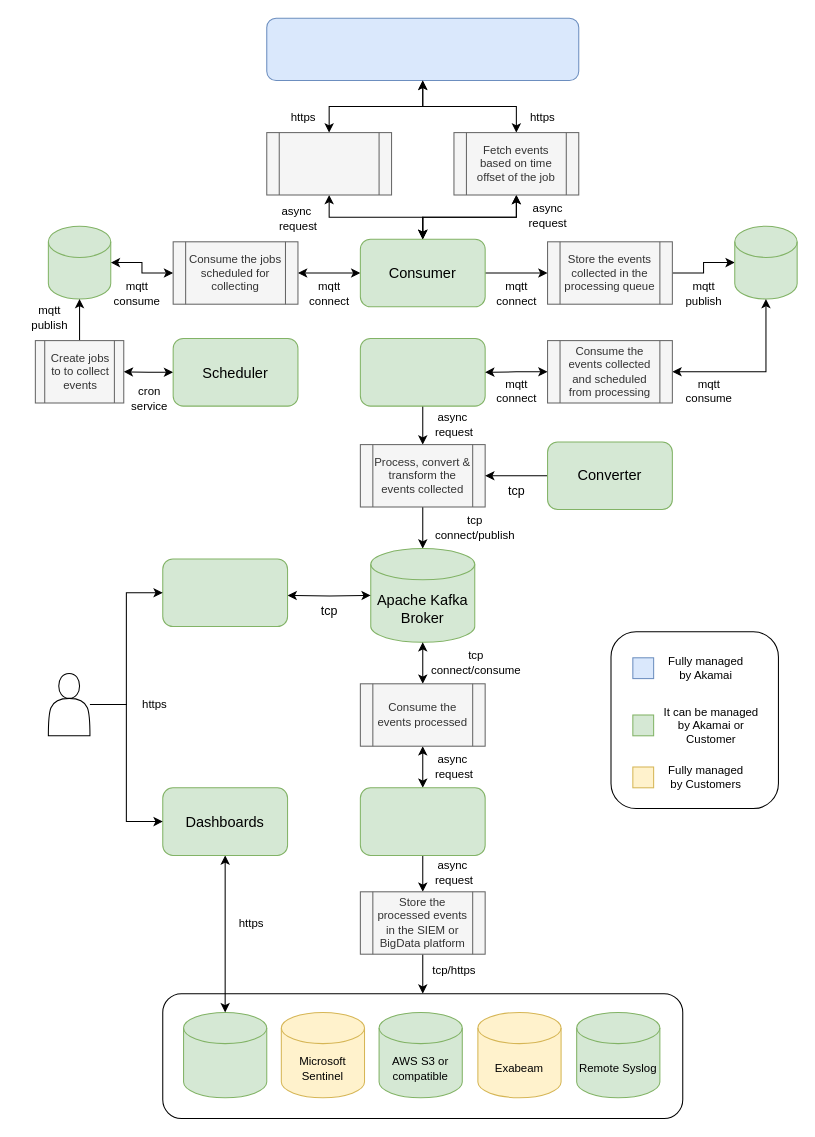
Image size: 815x1137. Some labels were removed from this diagram. The shapes that lost their labels are listed below. From the top down, each one's centre as x and y in pixels, then its label:
[422,49]: Akamai SIEM API Endpoint
[329,163]: Authenticate with EdgeGrid library
[79,262]: Jobs Queue
[765,262]: Events Queue
[422,371]: Processor
[225,592]: Events
[422,821]: Exporter
[225,1054]: Elasticsearch or Opensearch
